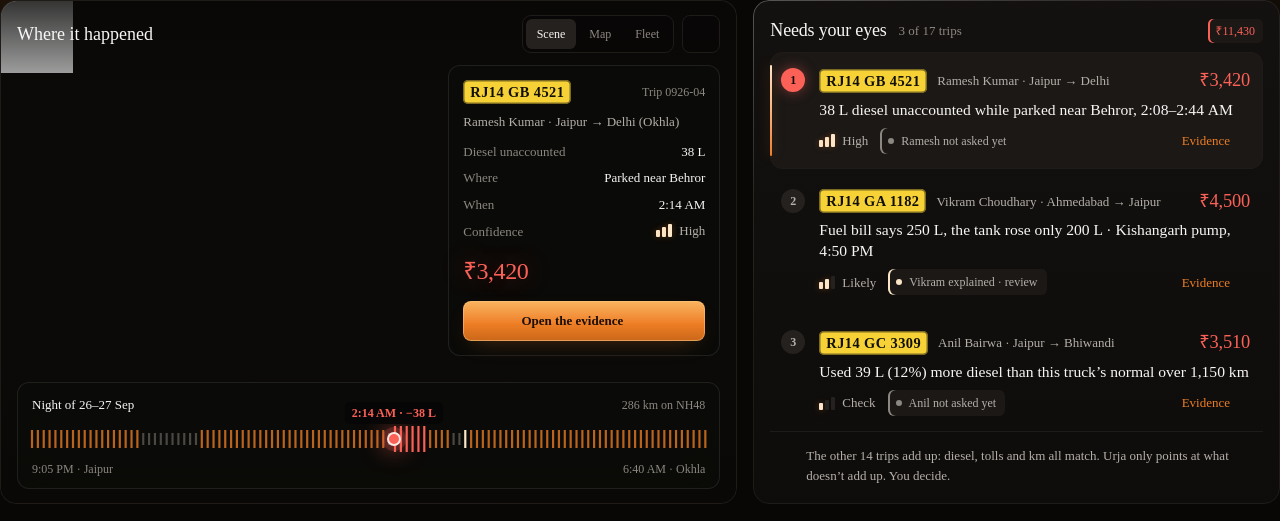
Test case: HeroCard · selection with a map that never loads (Review focus #4, TC-025) › row 3 shows flag 3 (no knob: no single stop) and the map mirrors the state
This screenshot has width=1280, height=521.
Click the 2nd button with class "eye-sel". click: (1017, 242)
box: [771,174,1262,309]
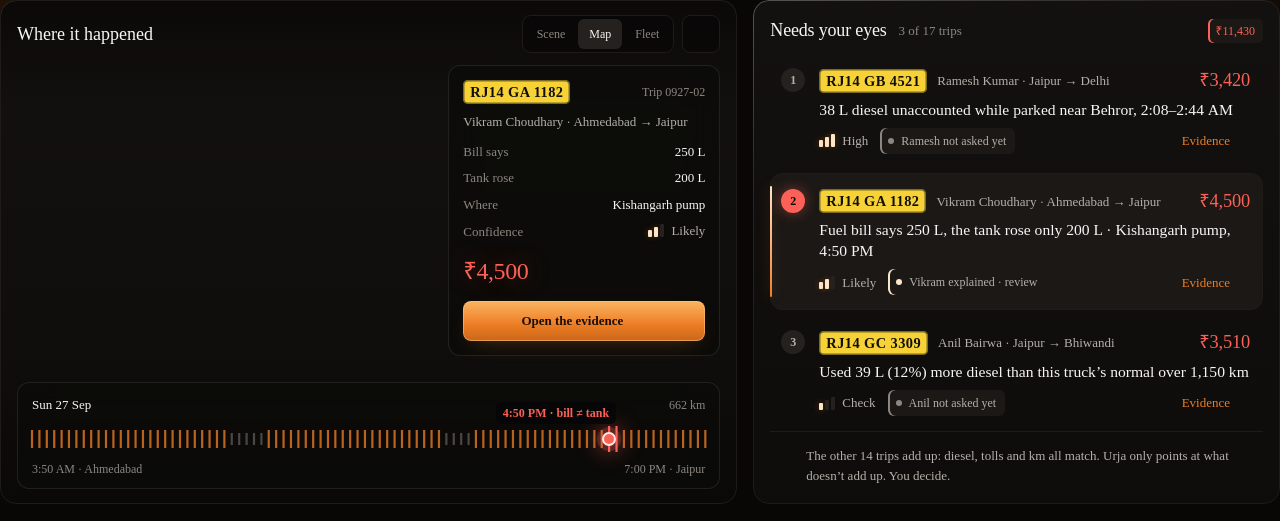
Click the 3rd button with class "eye-sel". click: (1017, 373)
box: [771,315,1262,430]
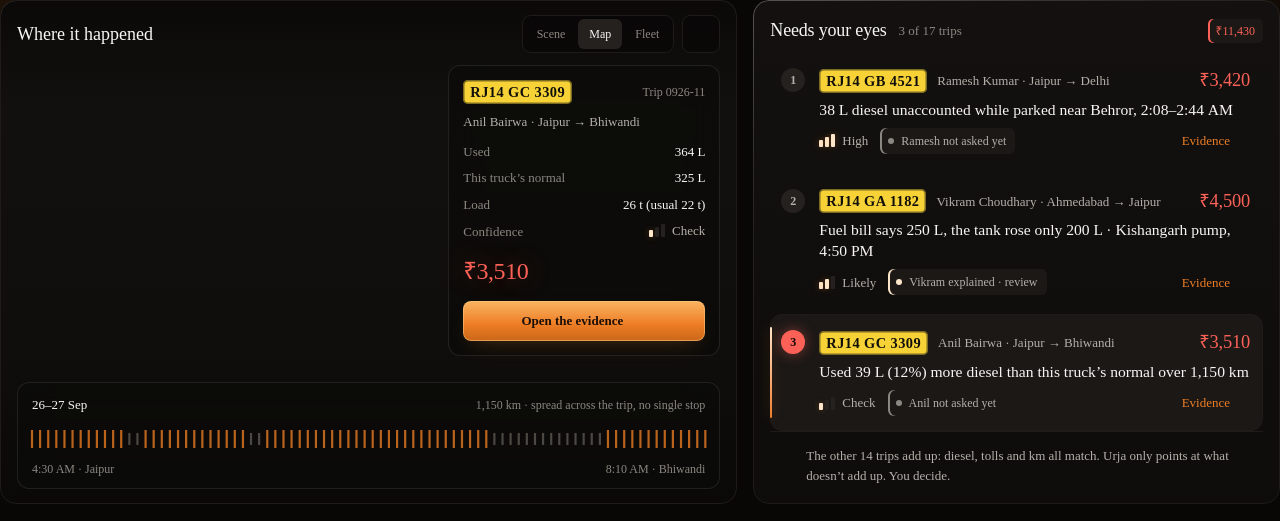
Expected: the text "RJ14 GC 3309" is shown, [463,80,572,104]
Expected: the text "1,150 km · spread across the trip, no single stop" is shown, [476,396,705,414]
Expected: the element with class "knob" is gone
